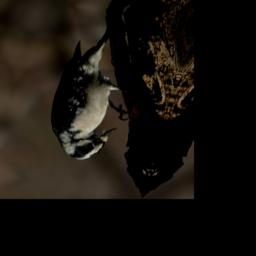Woodpecker: (37, 20, 155, 165)
